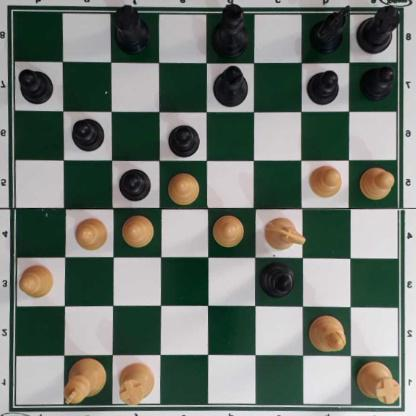black-bishop: (213, 65, 250, 108), (259, 259, 297, 298)
black-king: (211, 1, 249, 58)
black-knight: (310, 6, 351, 51)
black-pawn: (18, 67, 54, 105), (306, 70, 343, 105), (360, 64, 395, 99), (167, 121, 201, 157), (72, 116, 105, 151), (119, 166, 151, 201)
black-rook: (356, 1, 402, 53), (112, 4, 151, 53)
white-bishop: (307, 314, 347, 352)
white-king: (64, 356, 107, 405)
white-knight: (263, 218, 305, 250)
white-pawn: (19, 262, 56, 299), (75, 215, 109, 251), (167, 171, 203, 204), (359, 166, 395, 199), (309, 164, 343, 198), (122, 213, 155, 247), (213, 214, 245, 246)
white-rook: (357, 360, 402, 403), (119, 363, 156, 404)
